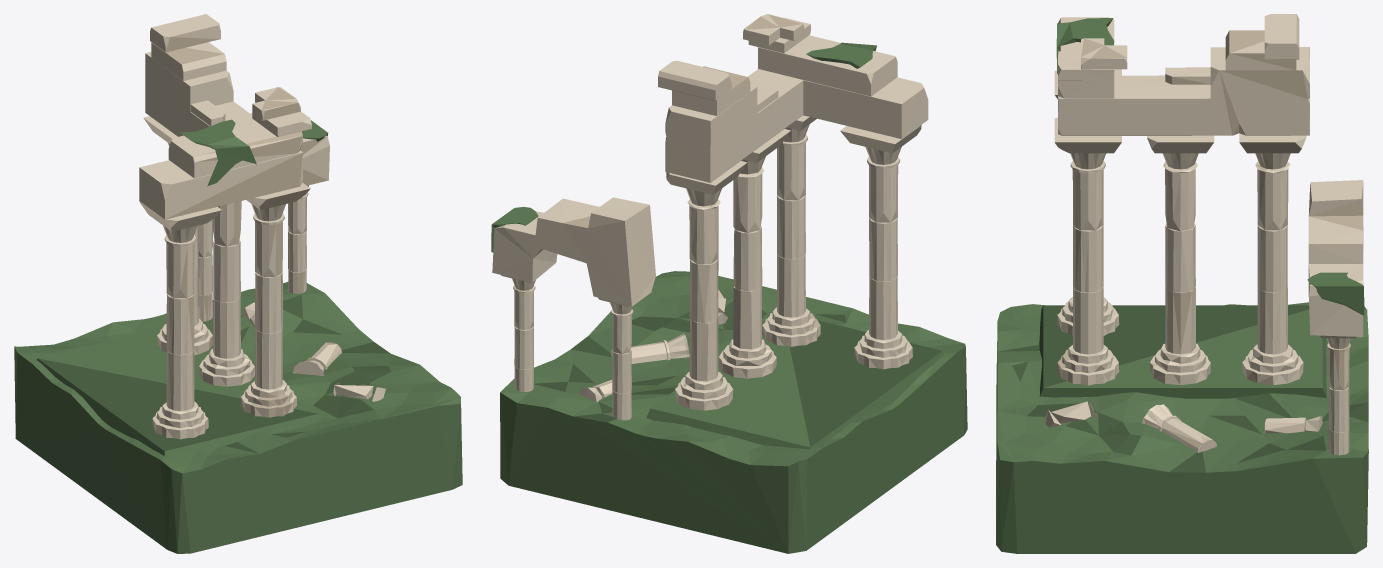
Rendered from parthenon.glb.
3 views of the same model, side by side, from view 1: azimuth 30°, elevation 25°; view 2: azimuth 150°, elevation 25°; view 3: azimuth 270°, elevation 25° (orthographic). The views are drawn at different scales.
Parts seen in each view (by area): view 1: Cube.002, Circle.009, Cube.001, Circle.007, Circle.010, Circle.001, Plane.001, Circle.012, Circle.003, Circle.011, Plane, Circle.008 (+1 smaller); view 2: Cube.002, Circle.009, Cube.001, Plane, Circle.007, Circle.003, Circle.001, Circle.010, Circle.011, Circle.012, Circle.008, Plane.001 (+1 smaller); view 3: Cube.002, Circle.009, Cube.001, Circle.010, Circle.003, Circle.001, Plane, Circle.012, Cube.003, Circle.008, Plane.001, Circle.007 (+2 smaller).
Part boxes in pixels (x1,y1,x2,y2): Cube.002: [14, 282, 462, 553]; Circle.009: [139, 14, 311, 219]; Cube.001: [37, 328, 321, 455]; Circle.007: [139, 201, 221, 439]; Circle.010: [240, 182, 310, 417]; Circle.001: [199, 201, 254, 386]; Plane.001: [180, 119, 256, 186]; Circle.012: [288, 185, 308, 293]; Circle.003: [143, 116, 212, 354]; Circle.011: [198, 219, 212, 321]; Plane: [250, 113, 329, 185]; Circle.008: [292, 342, 341, 375]; Cube.002: [500, 271, 967, 553]; Circle.009: [658, 14, 928, 182]; Cube.001: [646, 320, 944, 449]; Plane: [492, 197, 655, 306]; Circle.007: [840, 125, 921, 369]; Circle.003: [666, 161, 747, 410]; Circle.001: [718, 129, 790, 378]; Circle.010: [762, 115, 820, 346]; Circle.011: [598, 297, 633, 420]; Circle.012: [501, 275, 535, 391]; Circle.008: [611, 333, 689, 363]; Plane.001: [806, 42, 876, 68]; Cube.002: [996, 302, 1368, 553]; Circle.009: [1058, 14, 1309, 135]; Cube.001: [1039, 305, 1327, 398]; Circle.010: [1054, 117, 1121, 385]; Circle.003: [1239, 133, 1306, 385]; Circle.001: [1147, 135, 1214, 384]; Plane: [1308, 180, 1363, 336]; Circle.012: [1320, 335, 1356, 455]; Cube.003: [1307, 272, 1364, 315]; Circle.008: [1142, 404, 1216, 452]; Plane.001: [1056, 18, 1114, 73]; Circle.007: [1054, 69, 1121, 335].
Bounding box in the file's own units: 1.59 × 2.06 × 1.57.
